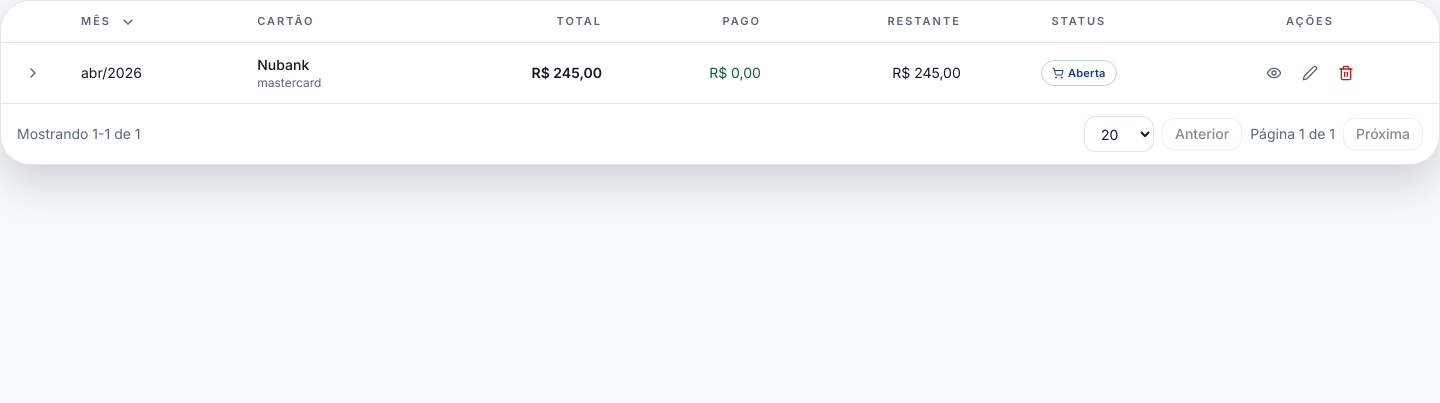
InvoiceHistoryTable › renders the premium table shell and expanded row surface for invoice history
Click the button with test id "invoice-history-expand-inv-1".
click(33, 73)  # box [17,57,49,89]
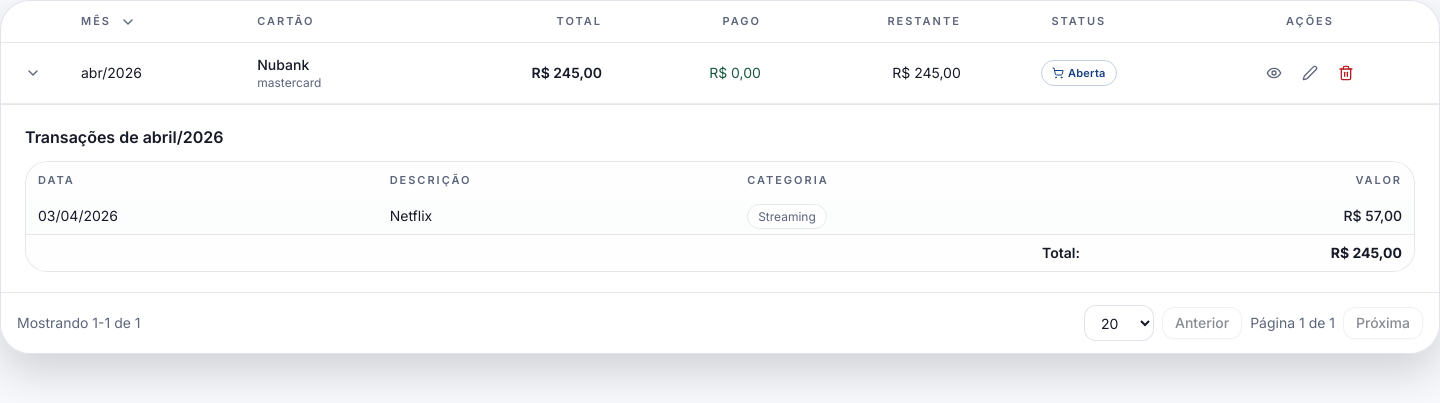
Result: the element with test id "invoice-history-expanded-inv-1" is shown at [1,104,1439,292]
